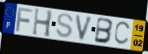B: (93, 16, 115, 45)
C: (113, 21, 132, 47)
F: (15, 6, 35, 33)
H: (31, 7, 54, 39)
S: (55, 13, 75, 39)
V: (75, 14, 95, 42)
